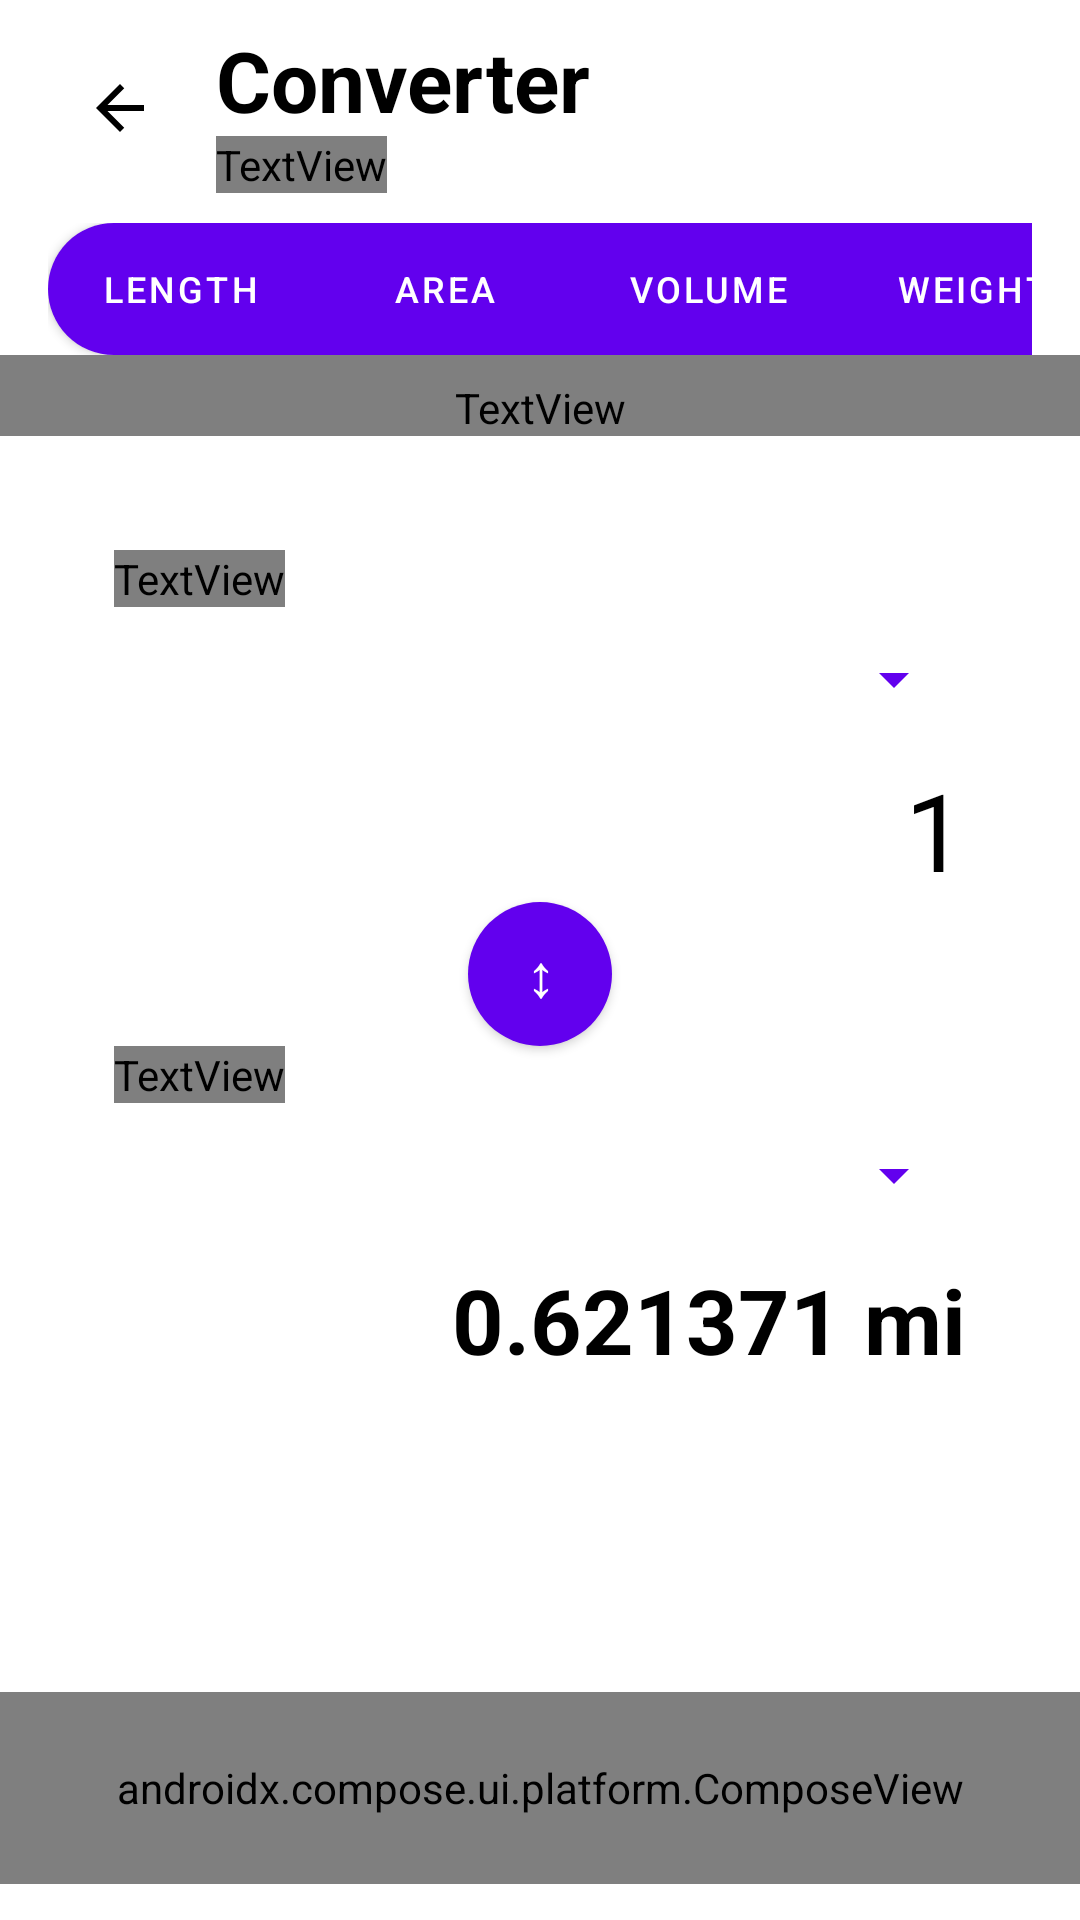

Icons on this 1080 x 1920 Android screen, each with its box as (x1, y1, x2, y2):
Back: (96, 84, 144, 132)
